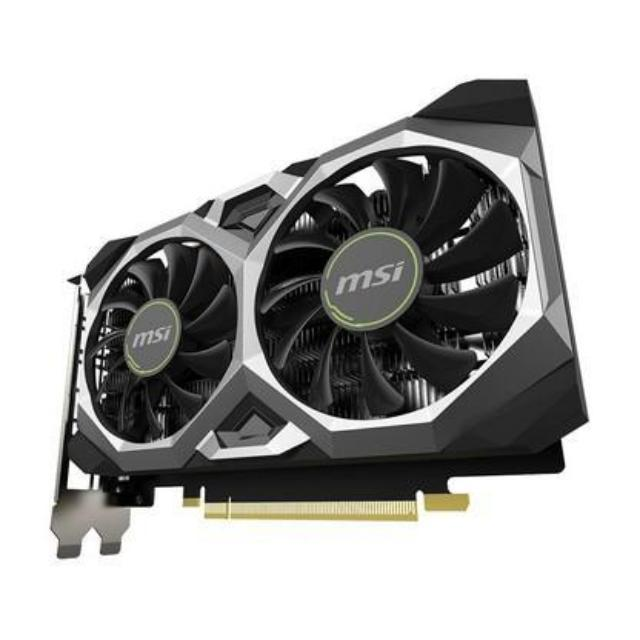GPU: (58, 72, 592, 558)
